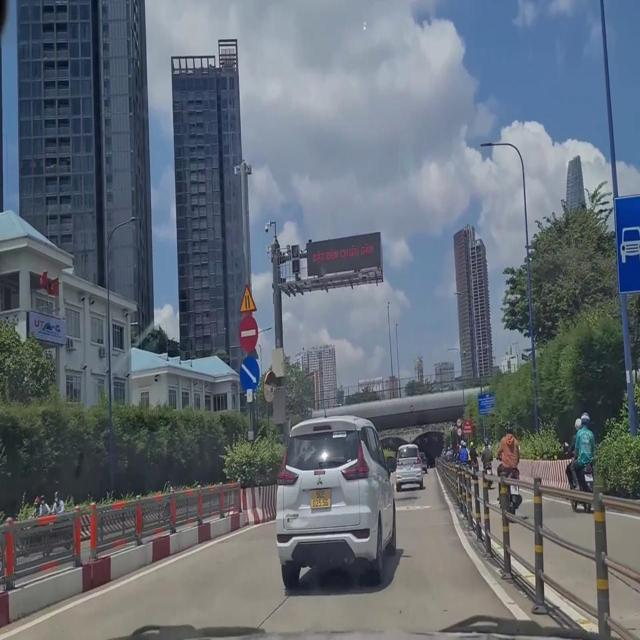Cấm đi ngược chiều: (238, 312, 258, 354)
Hướng phải đi vòng sang phải: (236, 353, 261, 394)
Khác: (475, 389, 495, 416)
Đường hẹp: (235, 282, 258, 313)
